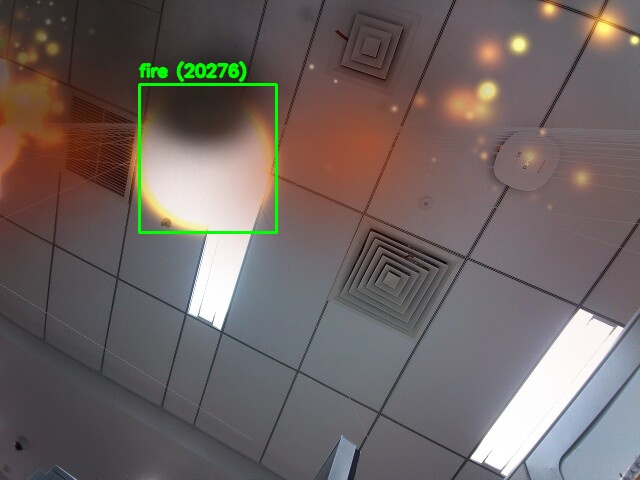fire: (139, 84, 276, 232)
